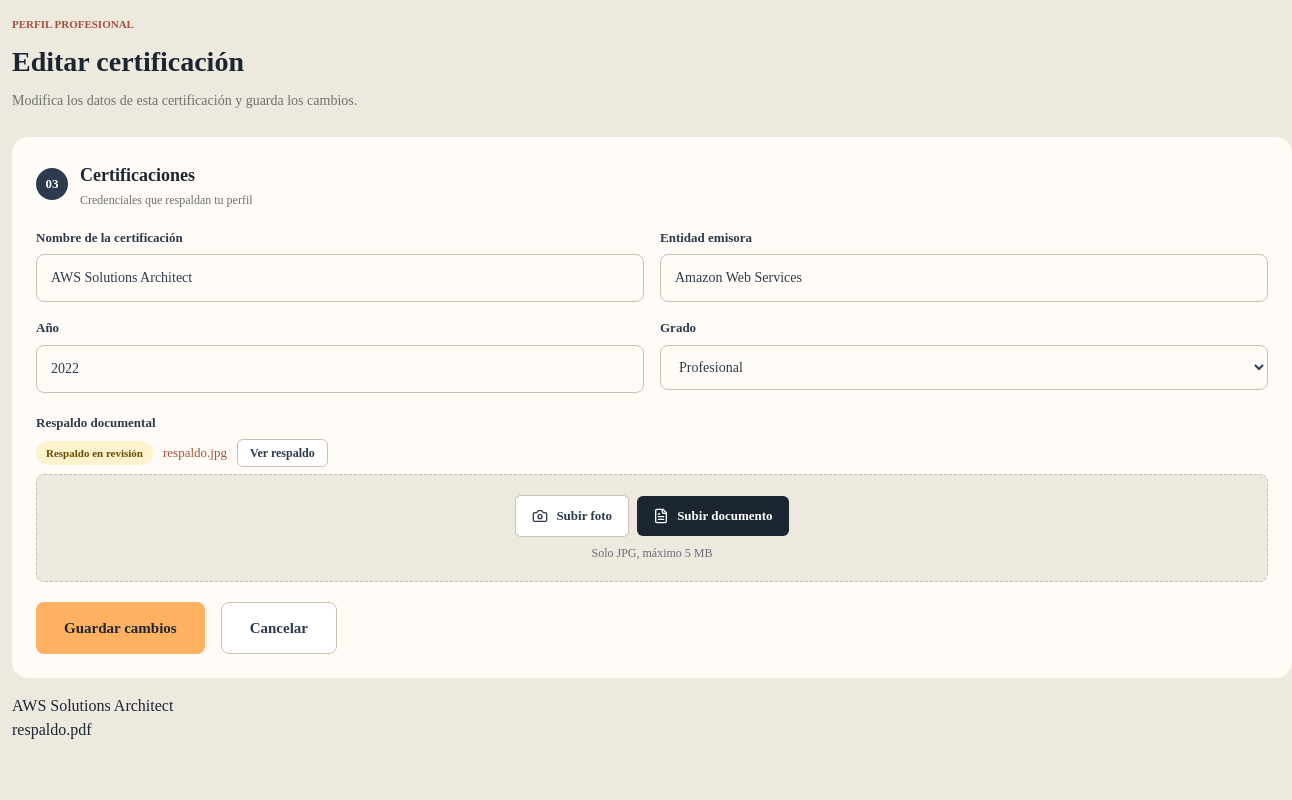
Test: EditCertificationForm › si el guardado falla muestra el error y no cambia el registro guardado
This screenshot has width=1292, height=800.
Replace the text in the field labelled "Nombre de la certificación" with "Otro nombre" at (340,278), box [36, 254, 644, 302]
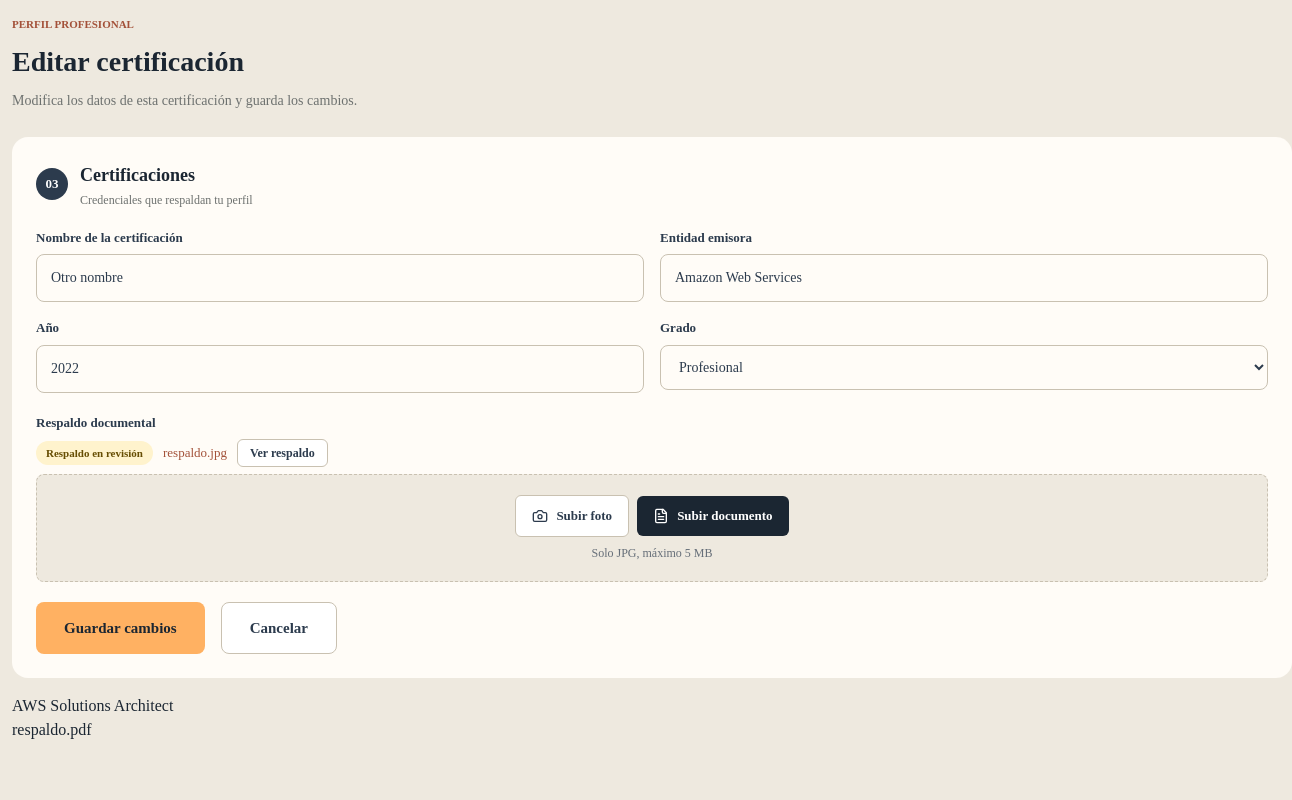
Click the button "Guardar cambios" at (120,628), box [36, 602, 205, 654]
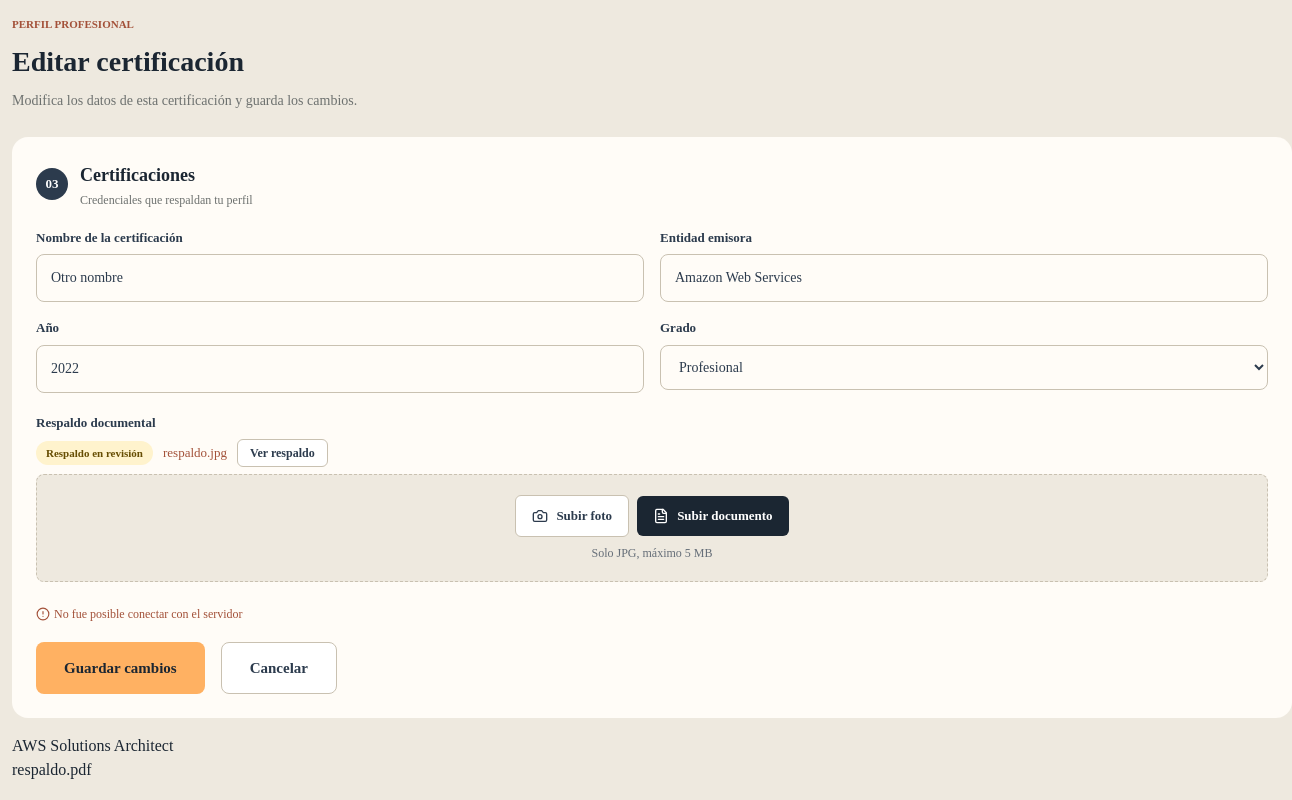
Expected: the text with test id "nombre-guardado" reads "AWS Solutions Architect", [12, 737, 173, 754]
Result: the text "No fue posible conectar con el servidor" is shown at [36, 606, 243, 620]
